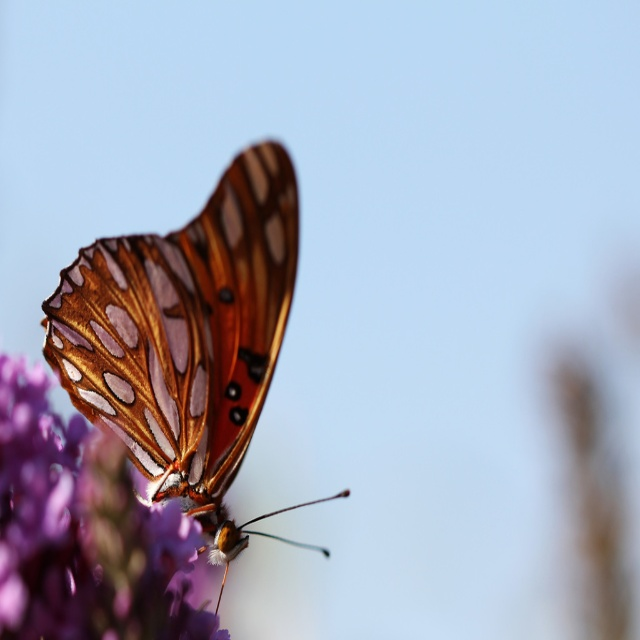Butterfly: (37, 127, 350, 630)
